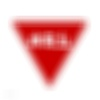Regulatory_sign_triangle: (15, 14, 90, 93)
